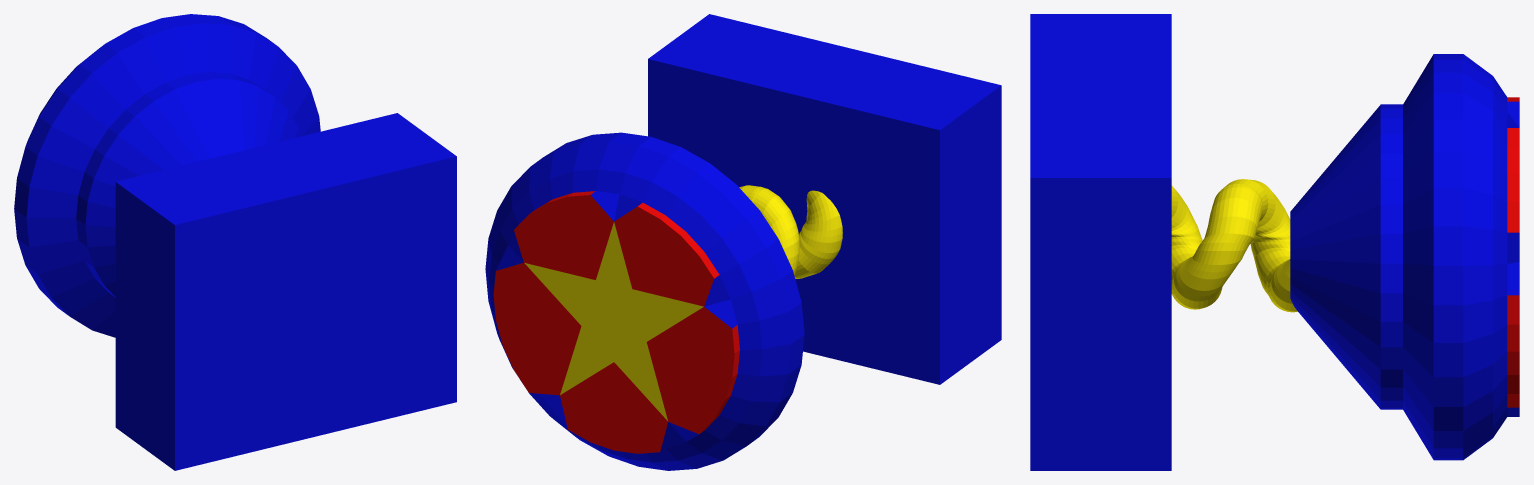
The model's file is ResorteRetenido.fbx.
3 views of the same model, side by side, from view 1: azimuth 30°, elevation 25°; view 2: azimuth 150°, elevation 25°; view 3: azimuth 270°, elevation 25° (orthographic). The views are drawn at different scales.
Visible parts, largest first — view 1: Cube; view 2: Cube; view 3: Cube.
Boxes of the visible parts, bbox=[...] form: Cube: bbox=[14, 14, 456, 470]; Cube: bbox=[485, 14, 1001, 470]; Cube: bbox=[1030, 14, 1519, 470].
Size of the model in its own units: 1746 by 1631 by 1962.
